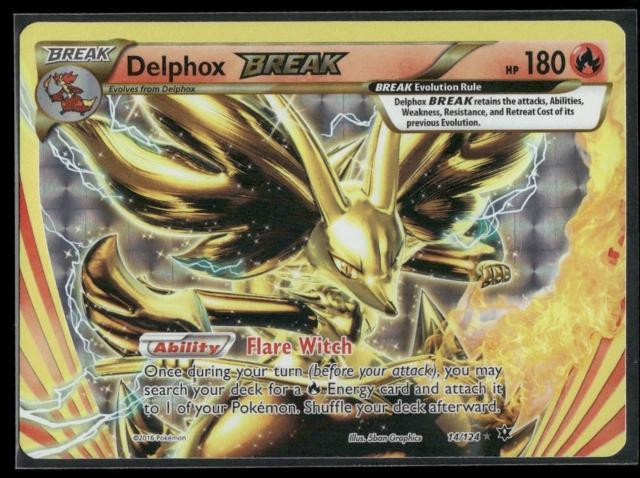Card: (15, 14, 633, 466)
Name: (112, 47, 357, 85)
